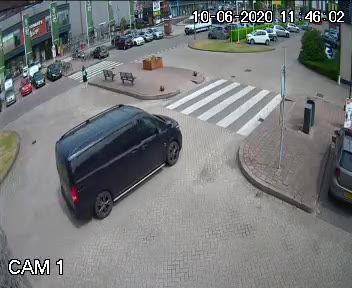car: (27, 106, 196, 210), (179, 13, 211, 39)
